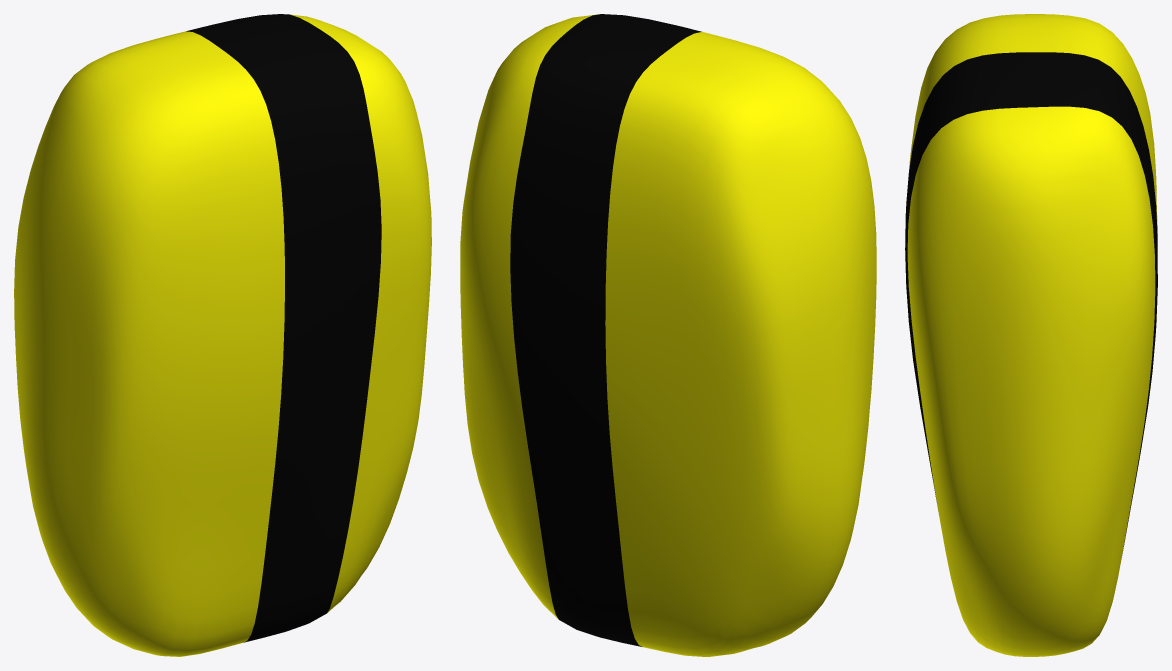
Rendered from gema.fbx.
3 renders of one model, left to right at view 1: azimuth 30°, elevation 25°; view 2: azimuth 150°, elevation 25°; view 3: azimuth 270°, elevation 25°, orthographic. The views are drawn at different scales.
Parts seen in each view (by area): view 1: Cube; view 2: Cube; view 3: Cube.
Boxes of the visible parts, bbox=[...] form: Cube: bbox=[14, 14, 431, 656]; Cube: bbox=[460, 14, 876, 656]; Cube: bbox=[905, 14, 1157, 656].
Bounding box in the file's own units: 284 × 424 × 170.
